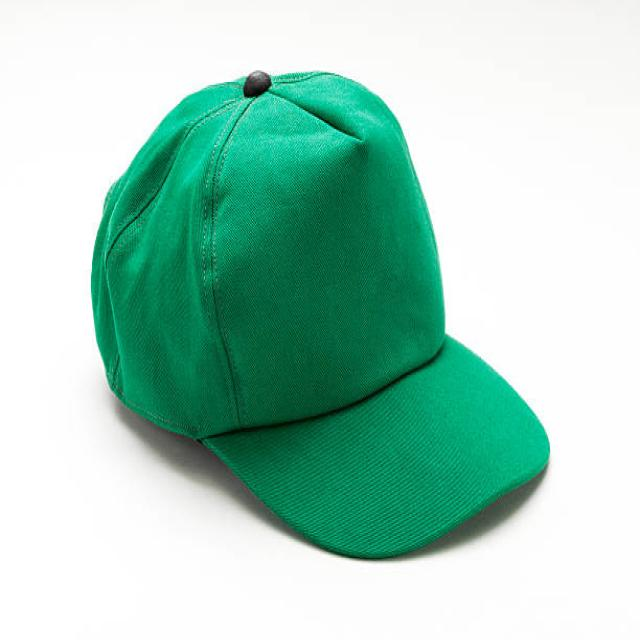Nonhelmet: (88, 66, 551, 561)
